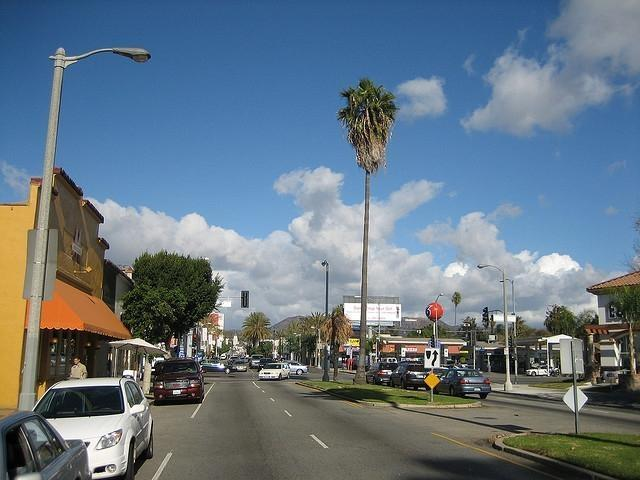car: (30, 378, 154, 480), (0, 408, 90, 474), (152, 358, 208, 404), (434, 370, 490, 398), (386, 364, 431, 390), (364, 360, 398, 386), (257, 362, 292, 380), (202, 358, 238, 374), (526, 364, 556, 376), (284, 361, 308, 375), (248, 355, 264, 368), (232, 360, 246, 372), (220, 356, 227, 360)
